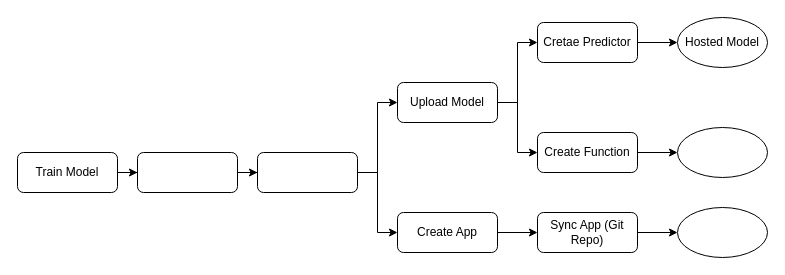
Image size: 785x275. Some labels were removed from this diagram. Each missing label, with the box of its shape:
Compress Model: (136, 152, 238, 192)
End Point: (676, 126, 768, 178)
Export Model: (256, 152, 358, 192)
Hosted App: (676, 206, 768, 258)
